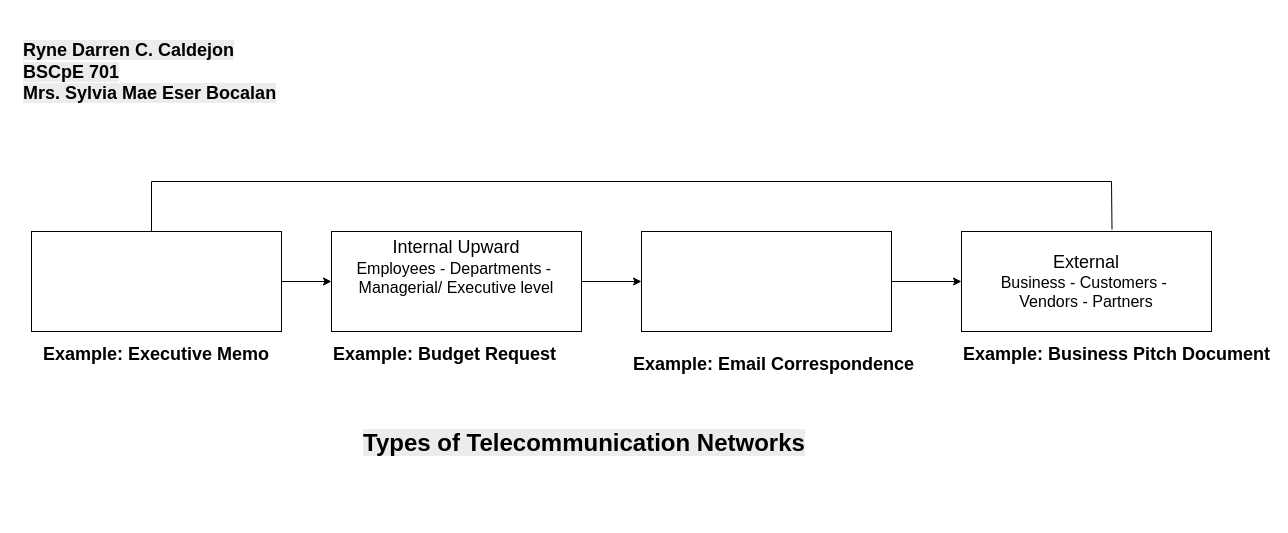
This 1288x533 diagram has some shape labels left out. Each missing label, with the centre of its shape:
Internal Downward Managers - Departments - Employees: the point at 156,281
Internal Lateral Co Workers - Employees - Same Department: the point at 766,281
